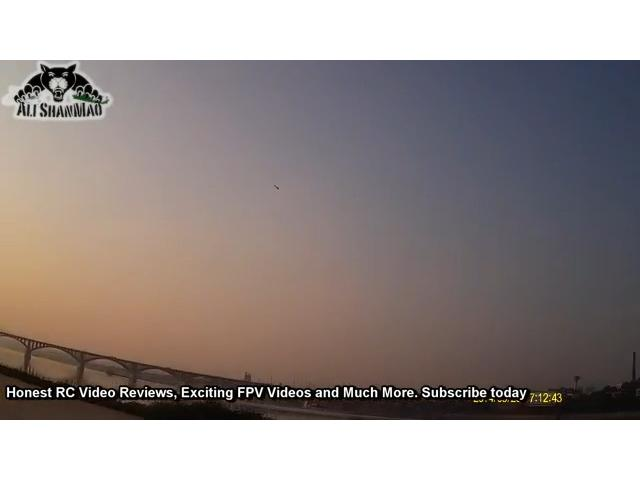Anti-Drone: (266, 179, 290, 193)
